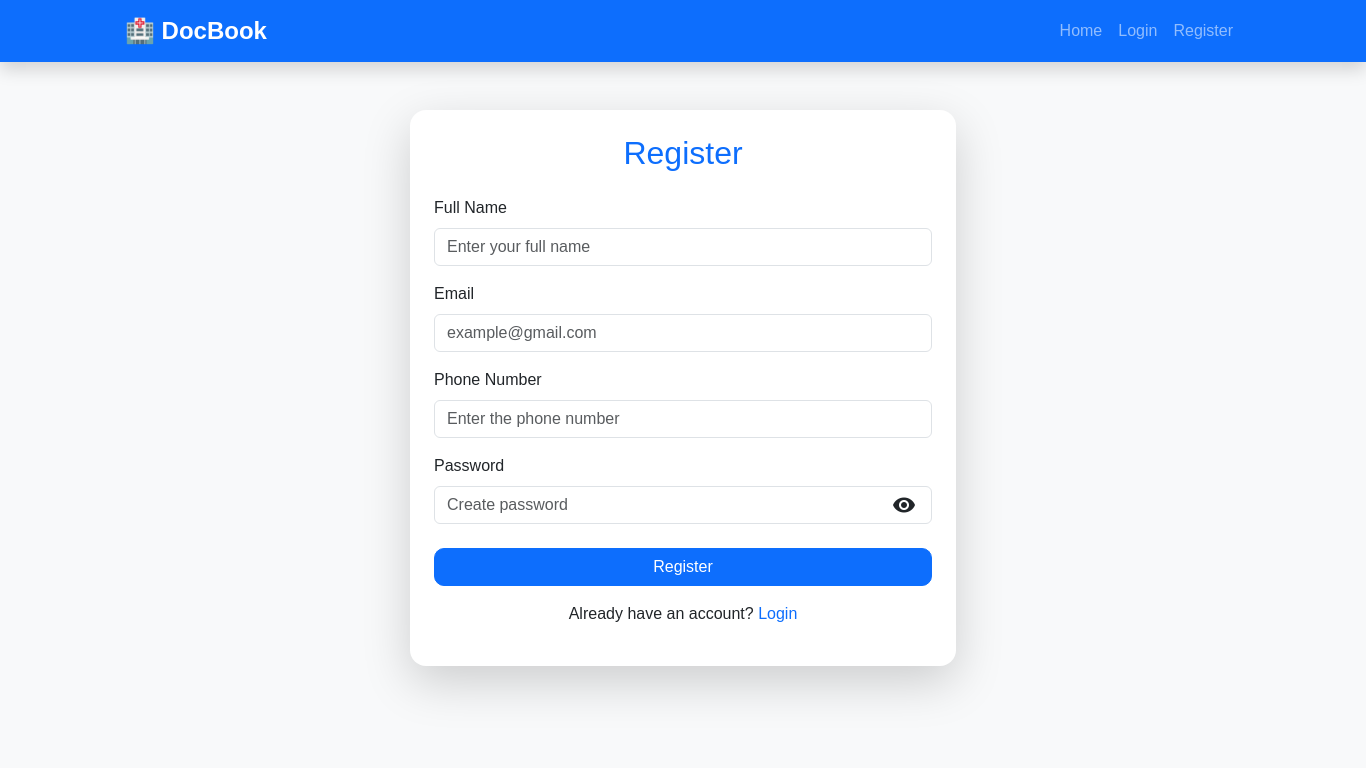
Scenario: Register › normalizes phone input to digits and limits it to ten characters
In the field with placeholder "Enter the phone number": (683,419) x1=434 y1=400 x2=932 y2=438, type "98a76-54321099"
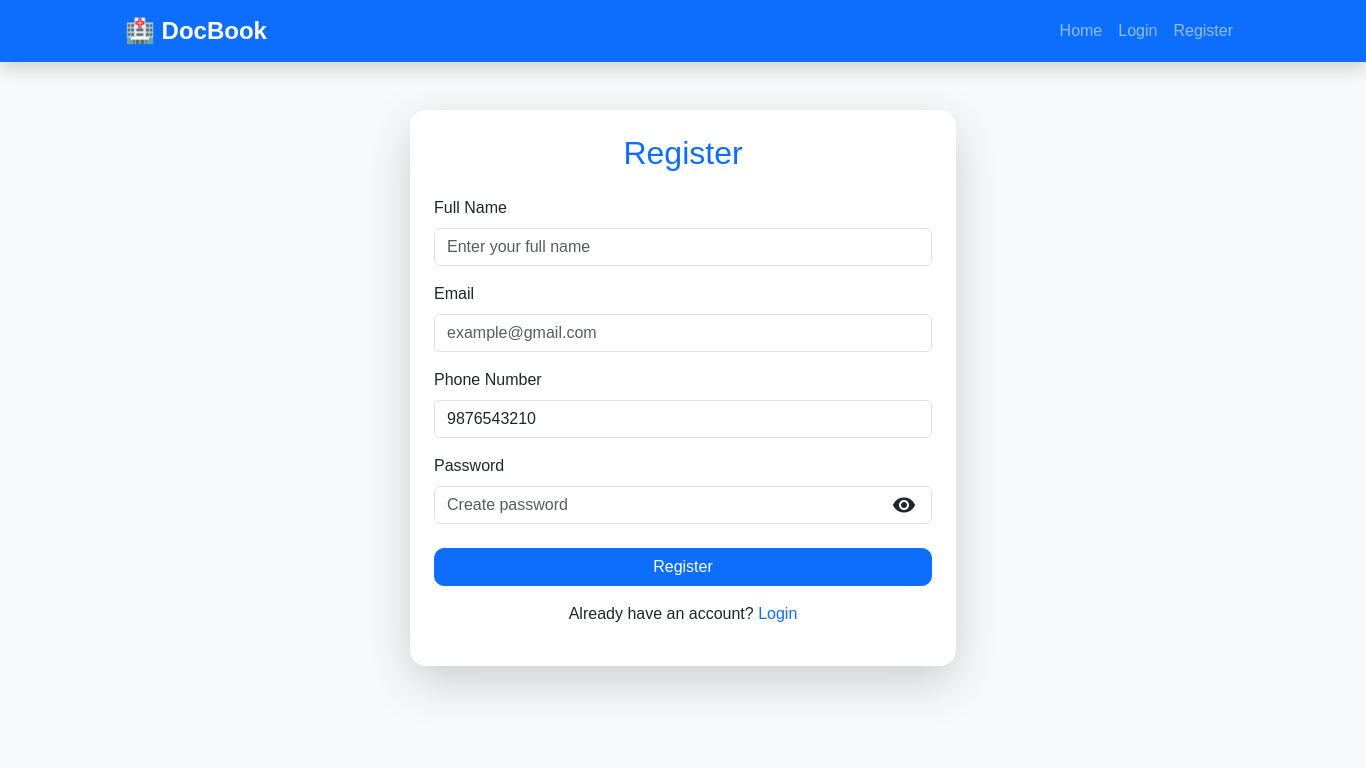
Result: the field with placeholder "Enter the phone number" holds "9876543210" at x1=434 y1=400 x2=932 y2=438
